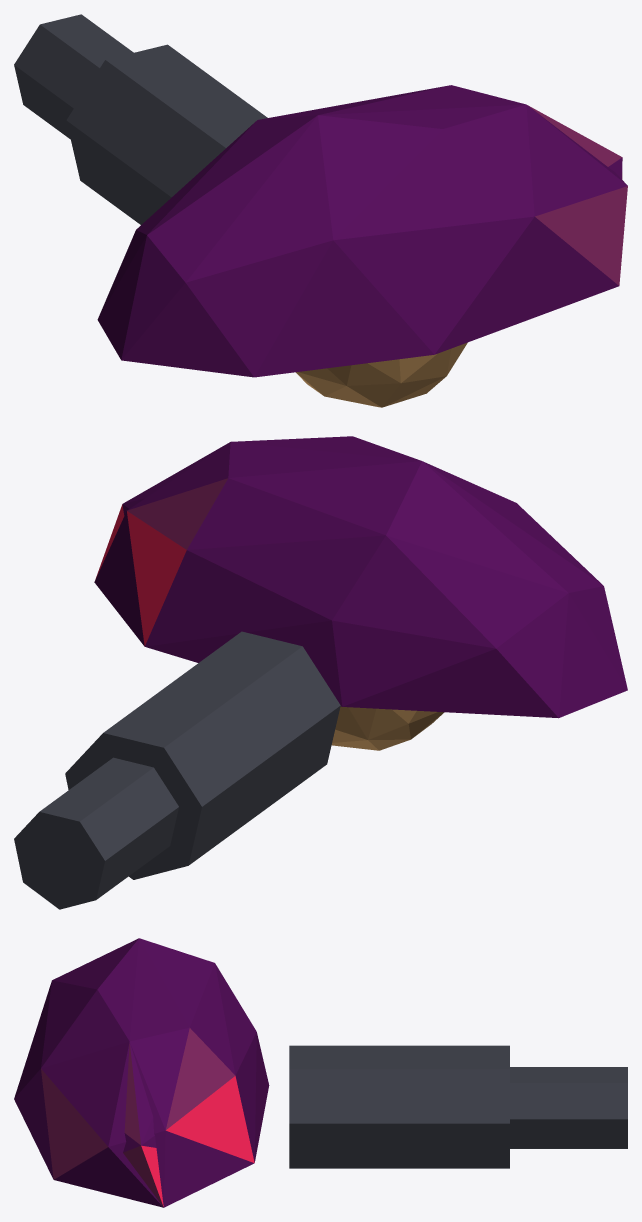
The model's file is MushroomTurretFix.fbx.
3 renders of one model, top to bottom at view 1: azimuth 30°, elevation 25°; view 2: azimuth 150°, elevation 25°; view 3: azimuth 270°, elevation 25°, orthographic. The views are drawn at different scales.
Parts seen in each view (by area): view 1: StaticEnemy.001, Weapon; view 2: StaticEnemy.001, Weapon; view 3: StaticEnemy.001, Weapon.
Part boxes in pixels (x1,y1,x2,y2): StaticEnemy.001: (97,85,627,407); Weapon: (14,14,267,224); StaticEnemy.001: (94,436,627,750); Weapon: (14,631,340,909); StaticEnemy.001: (14,938,269,1207); Weapon: (289,1045,627,1168).
Bounding box in the file's own units: 1.63 × 0.8836 × 2.13.
